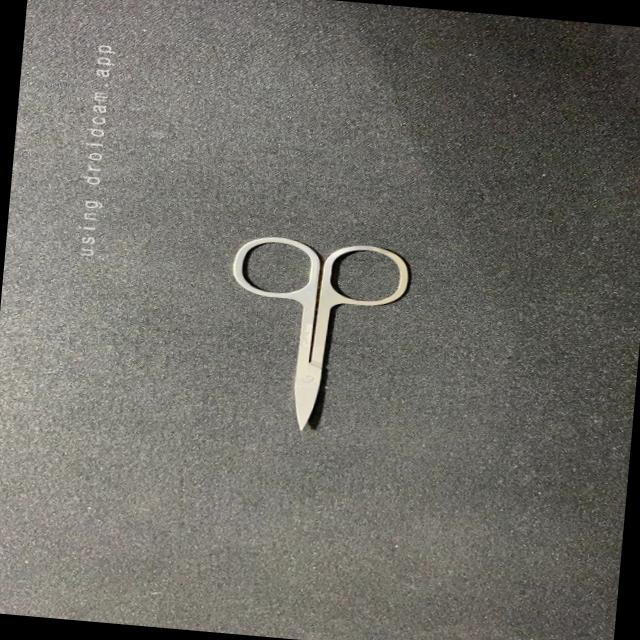scissor: (211, 228, 422, 444)
